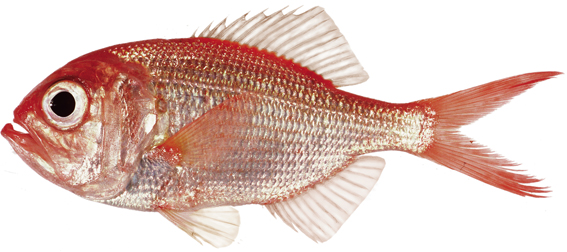fish: (3, 6, 563, 247)
